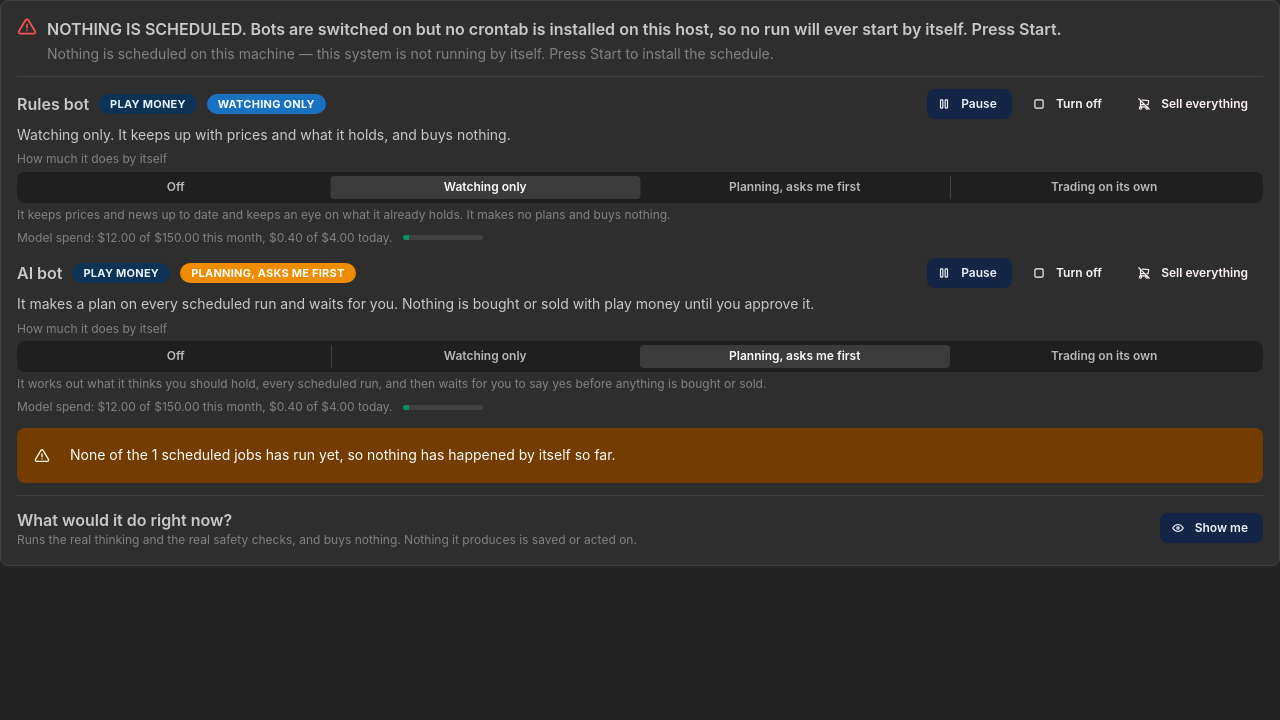
Test: the control on Home › asks before it moves a bot, and says what the move will do
The image size is (1280, 720).
Click the button with test id "pause-b". click: click(969, 273)
box: [927,258,1012,288]
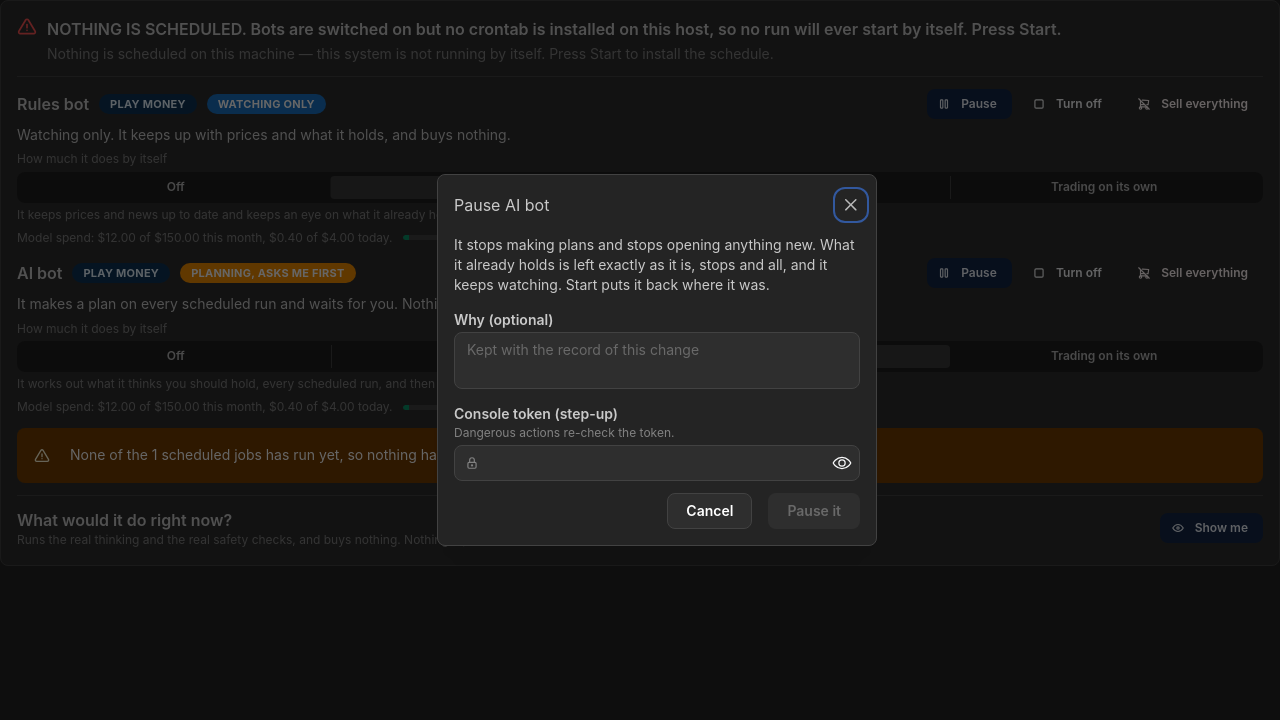
expect the dialog shows "stops making plans": met, box [454,236,854,293]
expect the dialog shows "left exactly as it is": met, box [454,236,854,293]
